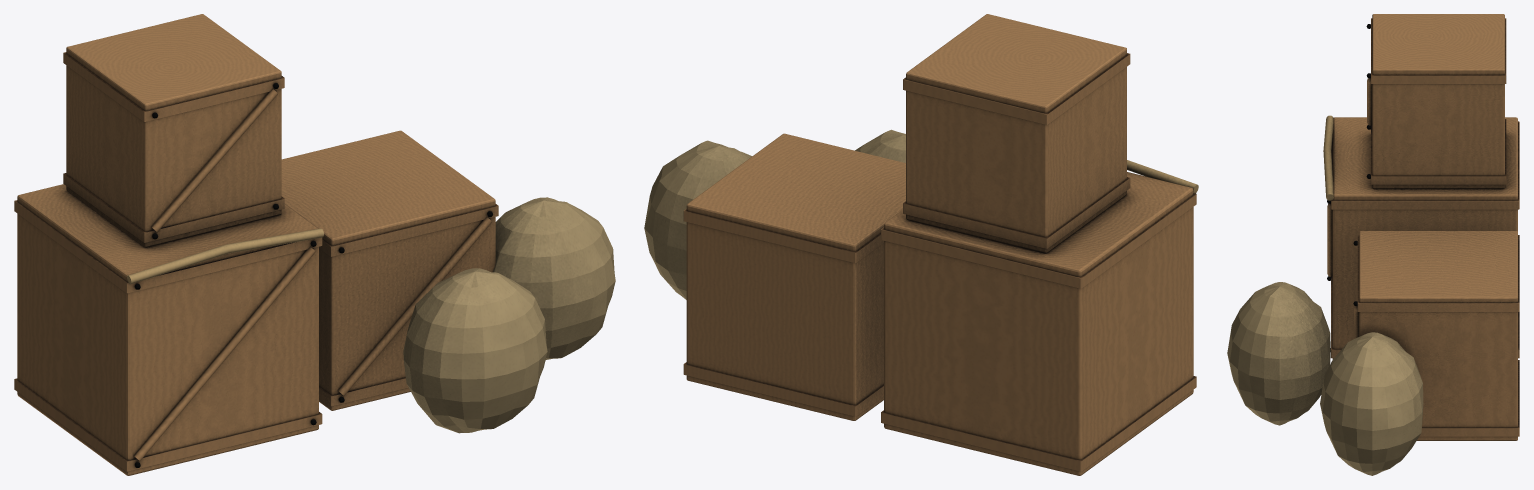
Rendered from movel_caixas.glb.
3 views of the same model, side by side, from view 1: azimuth 30°, elevation 25°; view 2: azimuth 150°, elevation 25°; view 3: azimuth 270°, elevation 25° (orthographic). The views are drawn at different scales.
Visible parts, largest first — view 1: movel_caixas; view 2: movel_caixas; view 3: movel_caixas.
Boxes of the visible parts, left/top/right/bottom form: movel_caixas: left=14, top=14, right=615, bottom=475; movel_caixas: left=644, top=14, right=1198, bottom=475; movel_caixas: left=1227, top=14, right=1519, bottom=475.
Bounding box in the file's own units: 1.85 × 1.22 × 1.1.
Materials: 1 (1 with a texture image).
